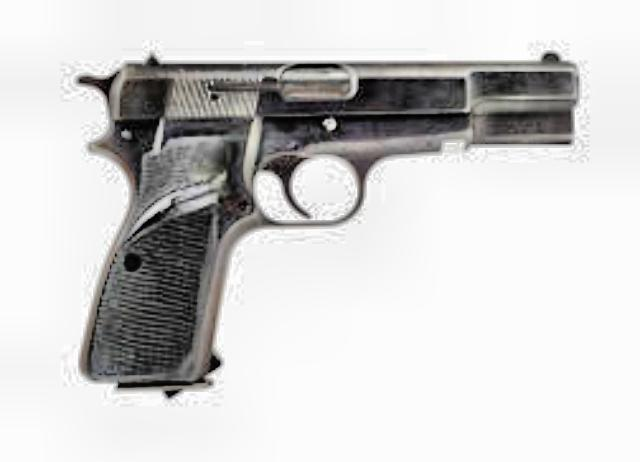pistol: (64, 41, 586, 388)
